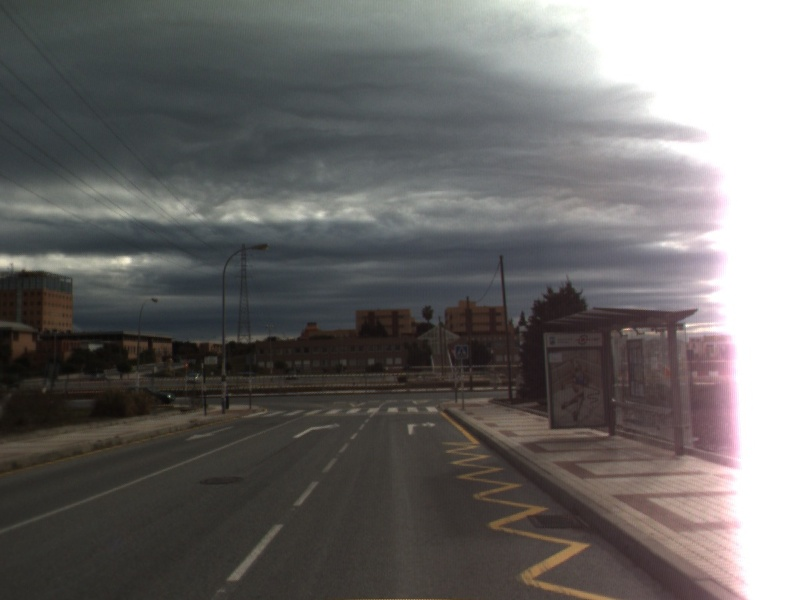RIGHT: (291, 420, 342, 440), (405, 419, 438, 437)
